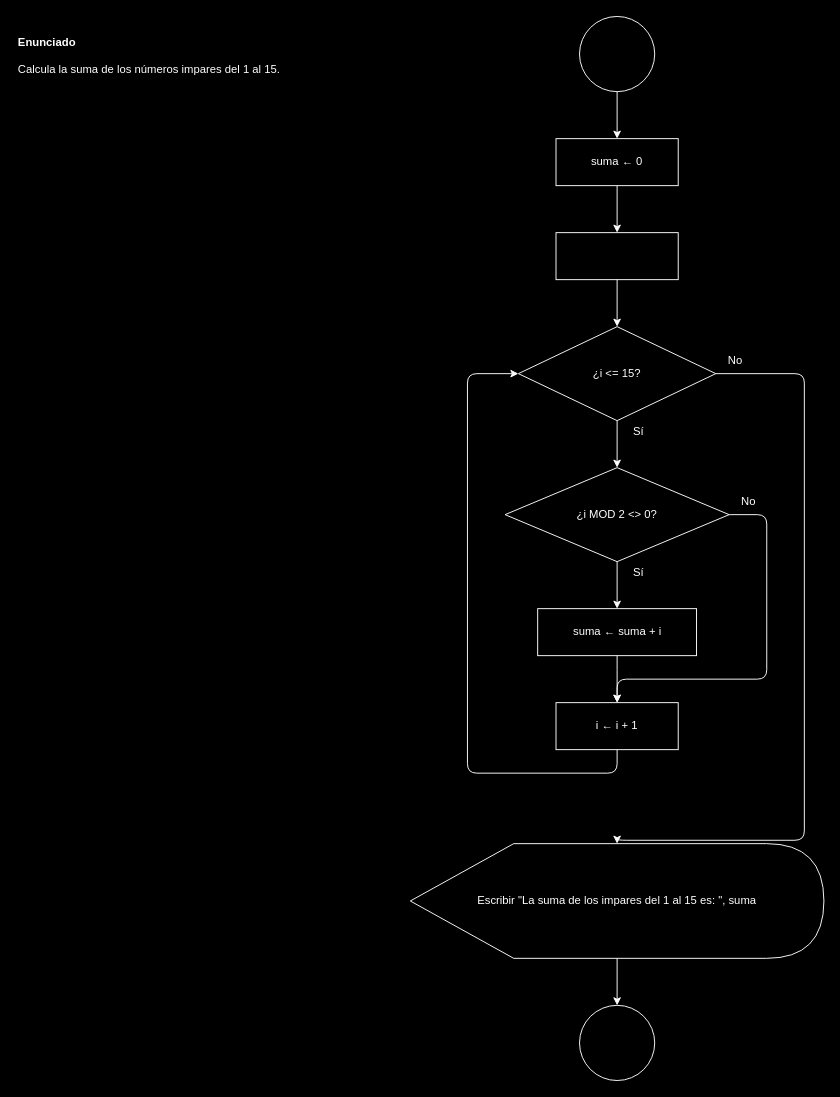
This 840x1097 diagram has some shape labels left out. The centre of each missing label's shape, as x and y in pixels:
"Fin" belongs at (617,1042).
"i ← 1" belongs at (616,256).
"Inicio" belongs at (617,54).
